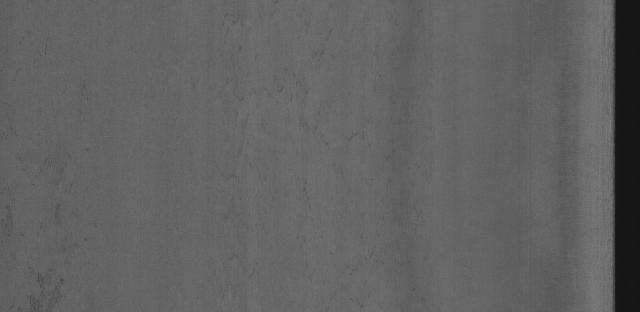silk_spot: (216, 28, 422, 307)
water_spot: (21, 256, 80, 312)
